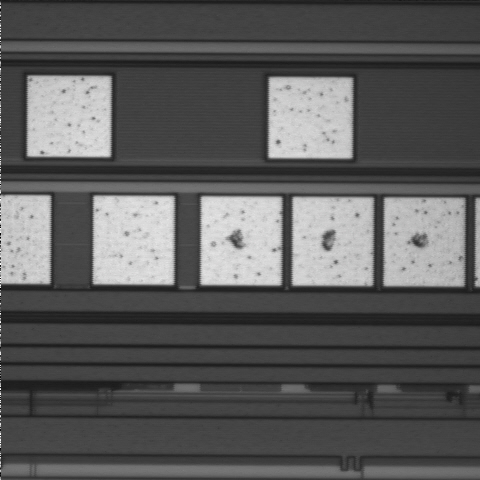pad: (94, 196, 174, 284), (201, 197, 281, 285), (293, 198, 373, 285), (384, 198, 463, 286), (28, 76, 111, 157), (269, 78, 352, 158)
